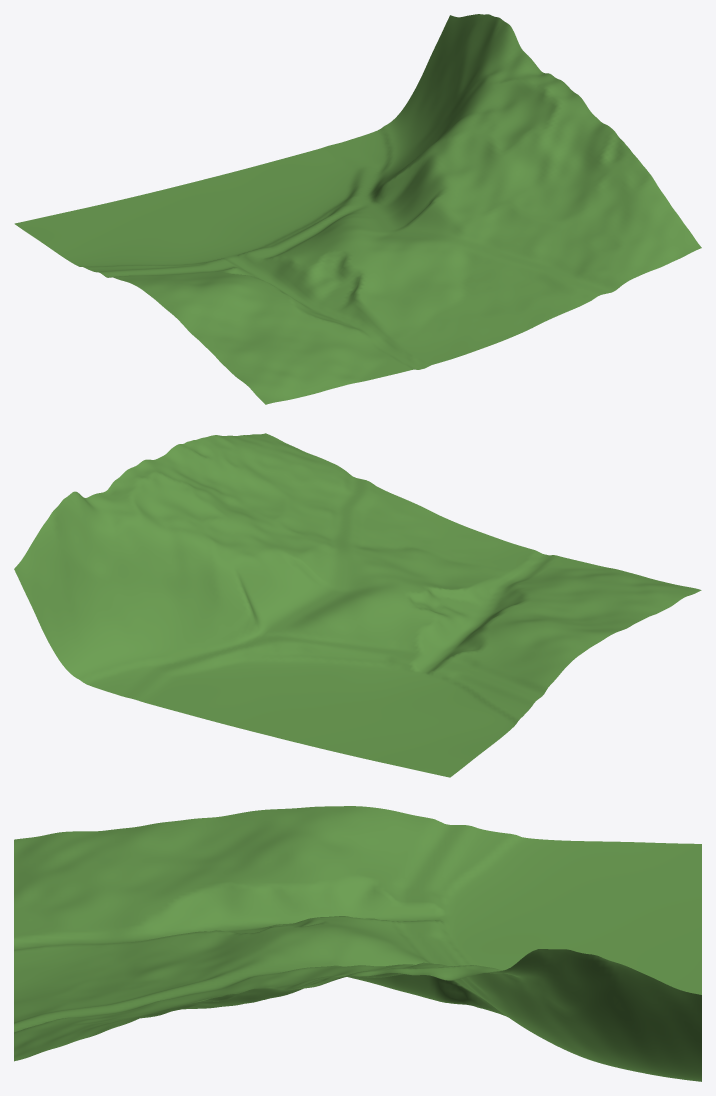
File: SM_Terrain_04_02.fbx
3 views of the same model, one above another, from view 1: azimuth 30°, elevation 25°; view 2: azimuth 150°, elevation 25°; view 3: azimuth 270°, elevation 25° (orthographic). The views are drawn at different scales.
Parts seen in each view (by area): view 1: SM_Terrain_04_02; view 2: SM_Terrain_04_02; view 3: SM_Terrain_04_02.
Boxes of the visible parts, box(x1,y1,x2,y2) form: SM_Terrain_04_02: box(14, 14, 701, 404); SM_Terrain_04_02: box(14, 433, 701, 777); SM_Terrain_04_02: box(14, 806, 701, 1081).
Bounding box in the file's own units: 384 × 117 × 384.
